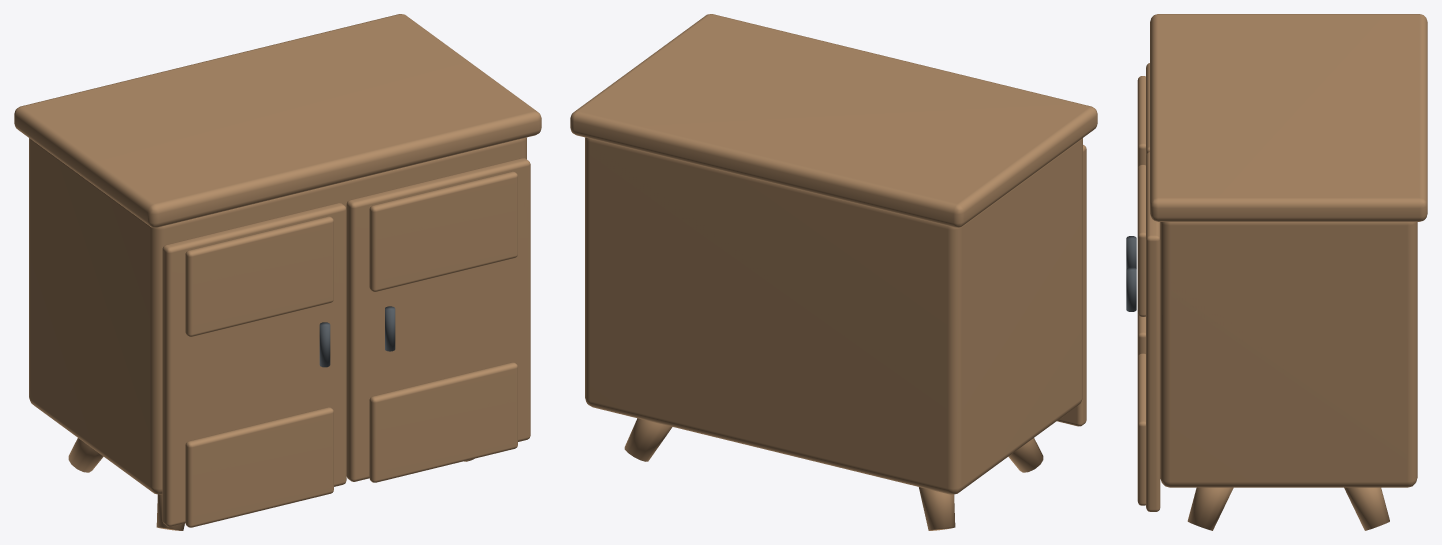
Rendered from atelier-medicine-cabinet.glb.
3 renders of one model, left to right at view 1: azimuth 30°, elevation 25°; view 2: azimuth 150°, elevation 25°; view 3: azimuth 270°, elevation 25°, orthographic.
Parts seen in each view (by area): view 1: legs.103, metal.043; view 2: legs.103; view 3: legs.103, metal.043.
Part boxes in pixels (left/top/right/bottom): legs.103: left=14, top=14, right=541, bottom=530; metal.043: left=319, top=306, right=395, bottom=367; legs.103: left=570, top=14, right=1097, bottom=530; legs.103: left=1137, top=14, right=1427, bottom=530; metal.043: left=1126, top=236, right=1136, bottom=311.
Bounding box in the file's own units: 0.785 × 0.6793 × 0.5265.
